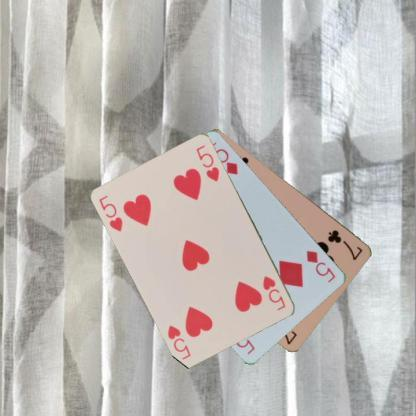5d: (304, 247, 337, 284)
5h: (96, 192, 124, 233), (260, 273, 287, 312)
7c: (325, 227, 364, 262)
